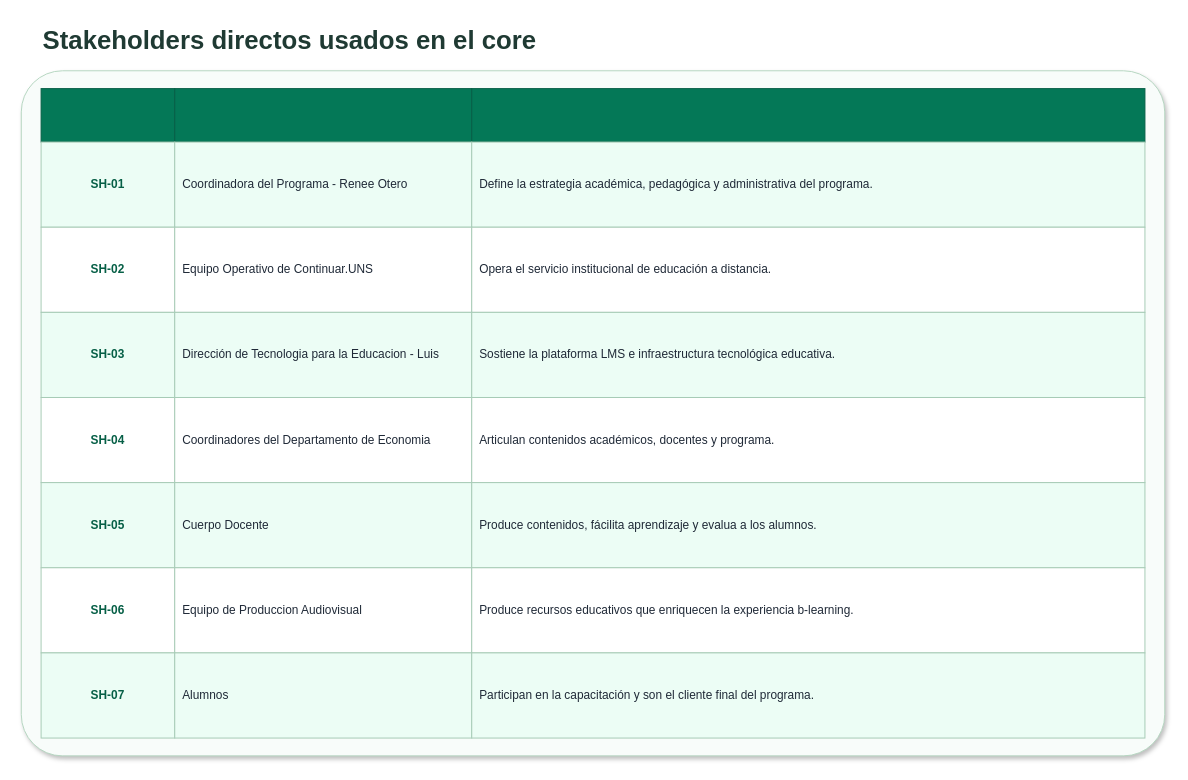
Some shapes in this 1188 by 780 pixel diagram are drawn without their labels. Here are the shapes that lost their labels. From the top down, the centre of each, then its label:
At point 107,115: "ID".
At point 323,115: "Stakeholder directo".
At point 808,115: "Relacion con el core".
